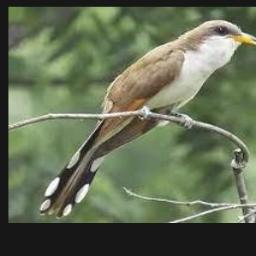Cuckoo: (38, 20, 256, 219)
